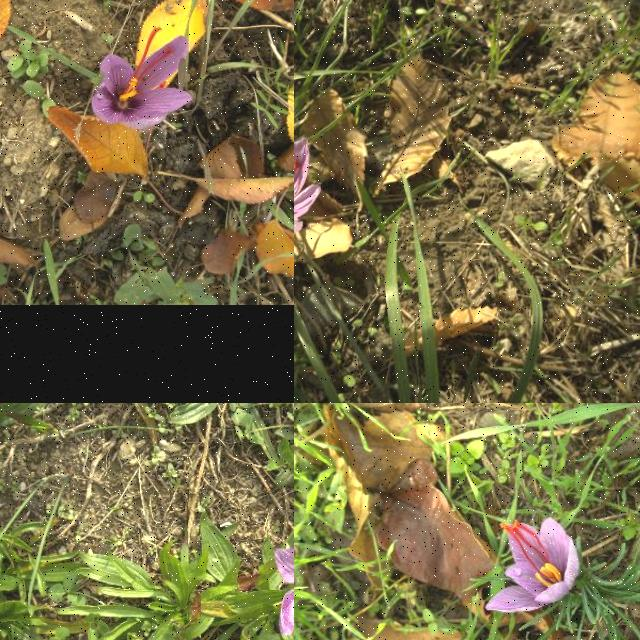flower: (90, 26, 192, 130), (486, 517, 580, 613), (294, 138, 323, 238)
